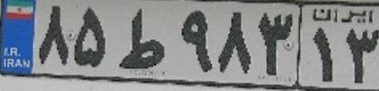character: (115, 7, 168, 72), (255, 6, 295, 80), (177, 5, 215, 76), (70, 5, 110, 70), (217, 8, 254, 77), (35, 2, 71, 68), (346, 23, 379, 91), (306, 24, 340, 85)
